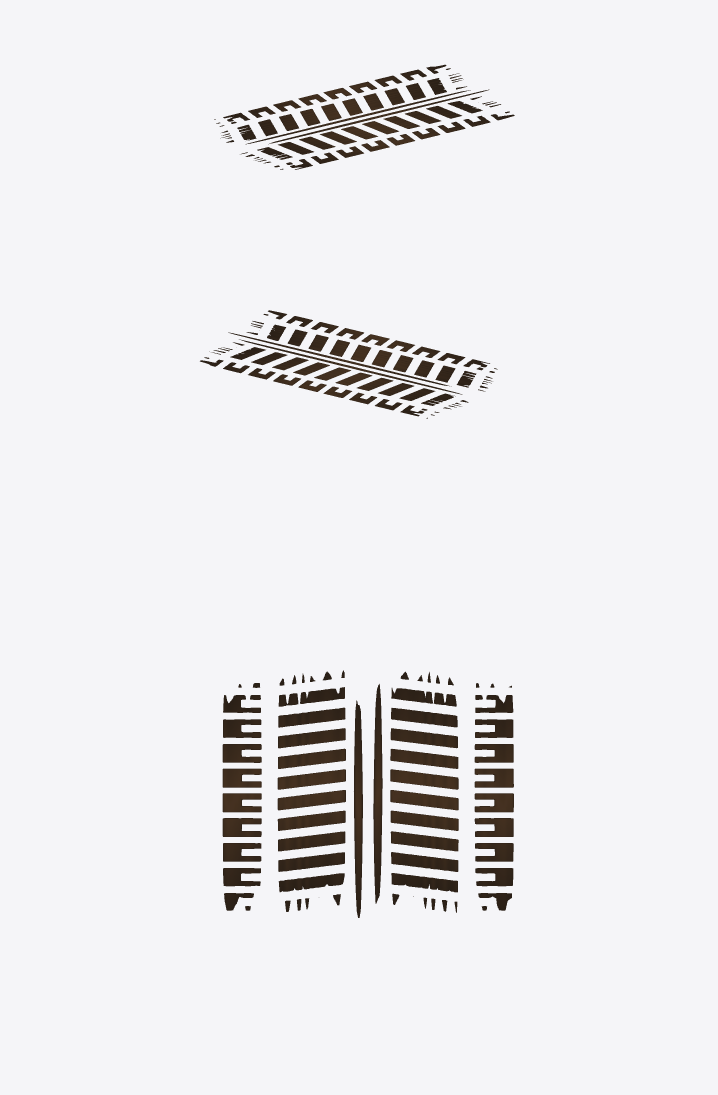
The model's file is tire_track_01.fbx.
3 views of the same model, one above another, from view 1: azimuth 30°, elevation 25°; view 2: azimuth 150°, elevation 25°; view 3: azimuth 270°, elevation 25° (orthographic). The views are drawn at different scales.
Parts seen in each view (by area): view 1: tire_track_01; view 2: tire_track_01; view 3: tire_track_01.
Part boxes in pixels (x1,y1,x2,y2): tire_track_01: [214, 64, 514, 169]; tire_track_01: [200, 310, 497, 418]; tire_track_01: [222, 670, 513, 917].
Size of the model in its own units: 85.52 by 0 by 23.59.
1 material, 1 textured.
